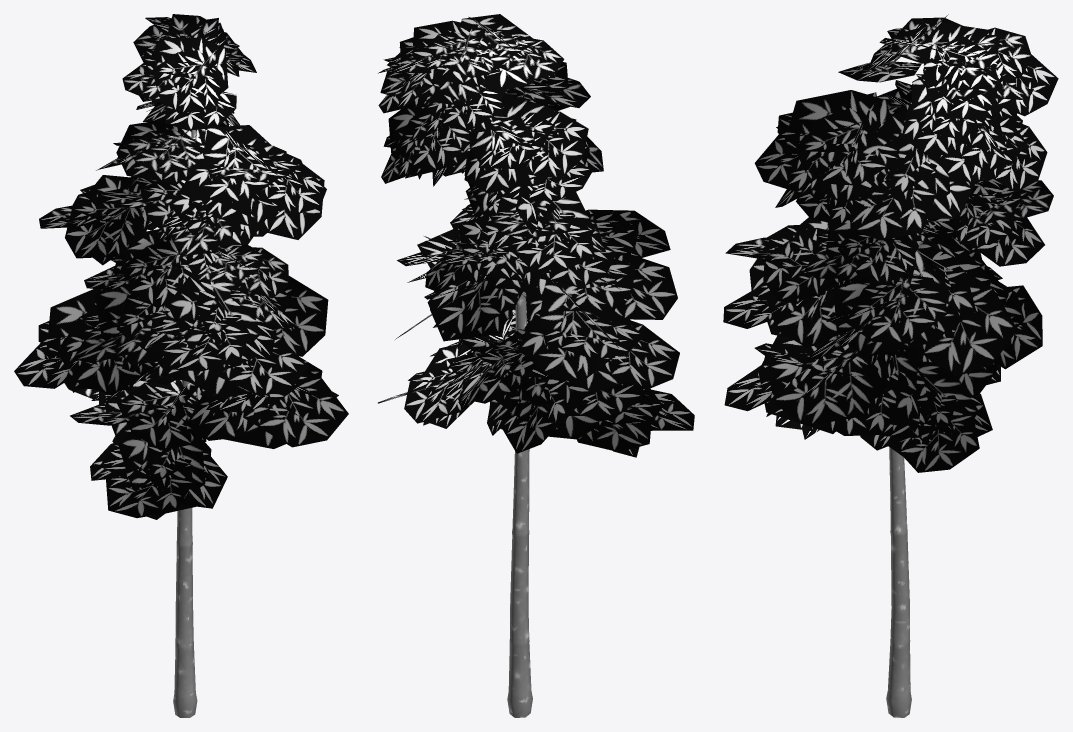
The model's file is P_Bamboo1.obj.
3 renders of one model, left to right at view 1: azimuth 30°, elevation 25°; view 2: azimuth 150°, elevation 25°; view 3: azimuth 270°, elevation 25°, orthographic. The views are drawn at different scales.
Bounding box in the file's own units: 6.87 × 16 × 6.95.
